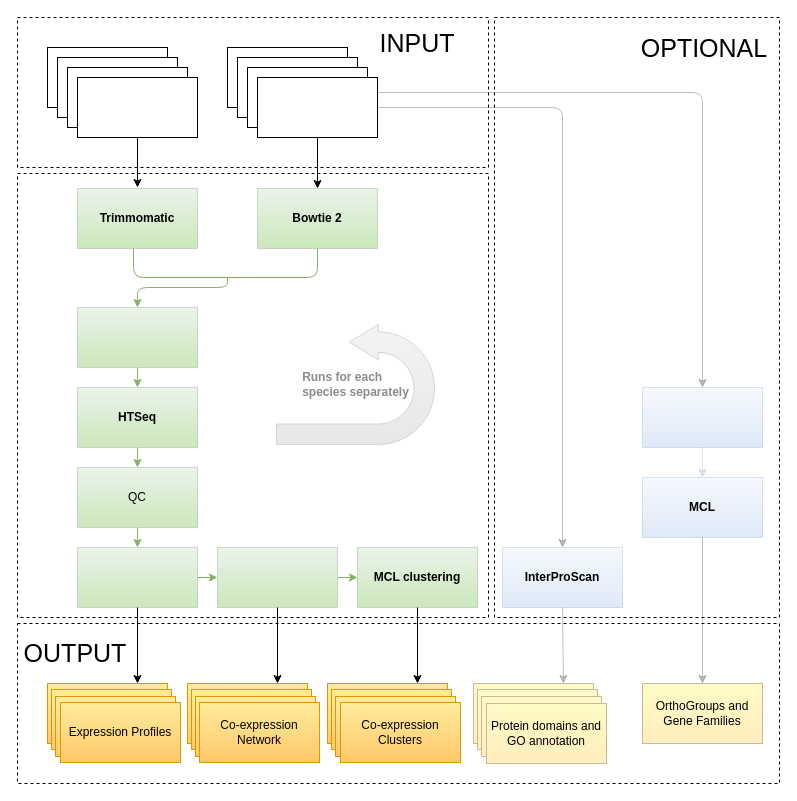
Some shapes in this 797 by 801 pixel diagram are drawn without their labels. The centre of each missing label's shape, as x and y in pixels:
"Expression Data (fastq)" goes at [137,107].
"Genomes + Annotation (gff3 + fasta)" goes at [317,107].
"Normalization" goes at [137,577].
"OrthoFinder" goes at [702,417].
"Pearson's Correlation" goes at [277,577].
"TopHat2" goes at [137,337].
